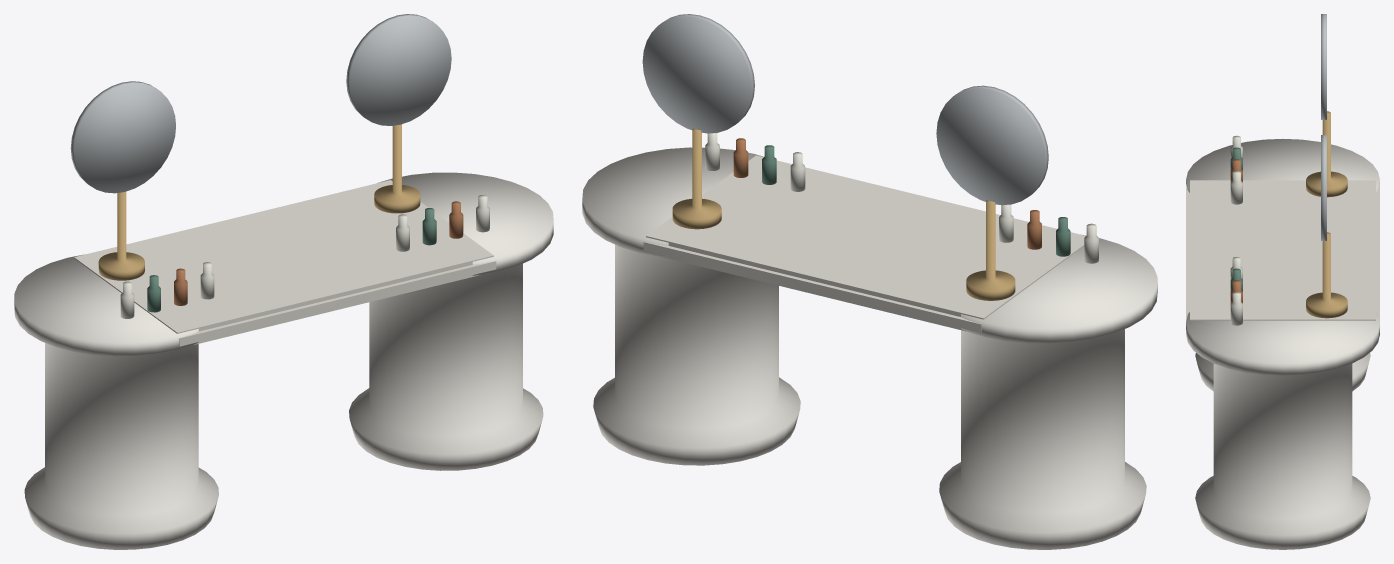
Rendered from beauty_tester_bar.glb.
3 renders of one model, left to right at view 1: azimuth 30°, elevation 25°; view 2: azimuth 150°, elevation 25°; view 3: azimuth 270°, elevation 25°, orthographic. The views are drawn at different scales.
Parts seen in each view (by area): view 1: beauty_tester_bar_Warm_white_coating, beauty_tester_bar_Honed_solid_surface, beauty_tester_bar_Brushed_stainless, beauty_tester_bar_Satin_champagne, beauty_tester_bar_Glazed_ceramic_0, beauty_tester_bar_Glazed_ceramic_2, beauty_tester_bar_Glazed_ceramic_1; view 2: beauty_tester_bar_Warm_white_coating, beauty_tester_bar_Honed_solid_surface, beauty_tester_bar_Brushed_stainless, beauty_tester_bar_Satin_champagne, beauty_tester_bar_Glazed_ceramic_0, beauty_tester_bar_Glazed_ceramic_2, beauty_tester_bar_Glazed_ceramic_1; view 3: beauty_tester_bar_Warm_white_coating, beauty_tester_bar_Honed_solid_surface, beauty_tester_bar_Satin_champagne, beauty_tester_bar_Brushed_stainless, beauty_tester_bar_Glazed_ceramic_0, beauty_tester_bar_Glazed_ceramic_1, beauty_tester_bar_Glazed_ceramic_2.
Part boxes in pixels (x1=…): beauty_tester_bar_Warm_white_coating: x1=14, y1=172, x2=553, y2=549; beauty_tester_bar_Honed_solid_surface: x1=74, y1=180, x2=496, y2=346; beauty_tester_bar_Brushed_stainless: x1=70, y1=14, x2=451, y2=193; beauty_tester_bar_Satin_champagne: x1=98, y1=124, x2=420, y2=280; beauty_tester_bar_Glazed_ceramic_0: x1=120, y1=195, x2=489, y2=318; beauty_tester_bar_Glazed_ceramic_2: x1=174, y1=201, x2=463, y2=305; beauty_tester_bar_Glazed_ceramic_1: x1=147, y1=208, x2=436, y2=312; beauty_tester_bar_Warm_white_coating: x1=582, y1=147, x2=1157, y2=549; beauty_tester_bar_Honed_solid_surface: x1=643, y1=155, x2=1085, y2=332; beauty_tester_bar_Brushed_stainless: x1=642, y1=14, x2=1048, y2=205; beauty_tester_bar_Satin_champagne: x1=672, y1=128, x2=1015, y2=300; beauty_tester_bar_Glazed_ceramic_0: x1=705, y1=133, x2=1098, y2=263; beauty_tester_bar_Glazed_ceramic_2: x1=733, y1=138, x2=1041, y2=249; beauty_tester_bar_Glazed_ceramic_1: x1=762, y1=145, x2=1070, y2=256; beauty_tester_bar_Warm_white_coating: x1=1186, y1=139, x2=1379, y2=549; beauty_tester_bar_Honed_solid_surface: x1=1186, y1=180, x2=1379, y2=321; beauty_tester_bar_Satin_champagne: x1=1306, y1=111, x2=1347, y2=318; beauty_tester_bar_Brushed_stainless: x1=1321, y1=14, x2=1326, y2=240; beauty_tester_bar_Glazed_ceramic_0: x1=1230, y1=135, x2=1242, y2=325; beauty_tester_bar_Glazed_ceramic_1: x1=1230, y1=147, x2=1242, y2=291; beauty_tester_bar_Glazed_ceramic_2: x1=1230, y1=159, x2=1242, y2=303.
Bounding box in the file's own units: 2.3 × 1.74 × 0.84.
